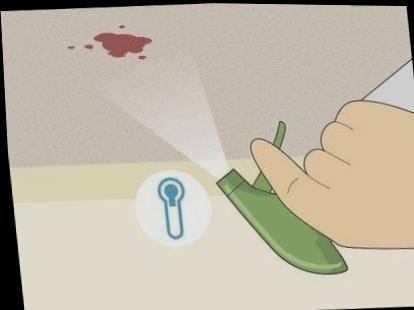Fire: (91, 32, 152, 57)
